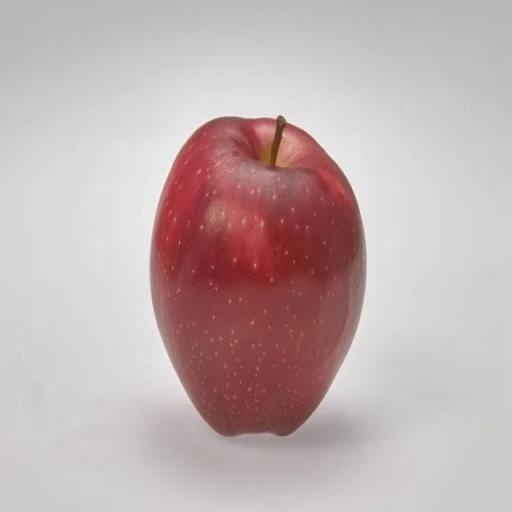fruit: (150, 117, 364, 435)
